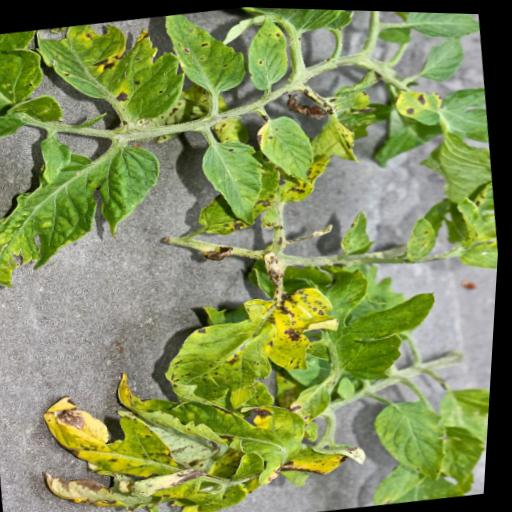Septoria: (111, 345, 323, 505), (0, 129, 184, 296), (154, 277, 351, 407), (29, 8, 198, 138), (44, 378, 192, 491), (155, 4, 256, 99), (192, 129, 277, 234), (251, 107, 326, 189), (239, 12, 300, 90)
